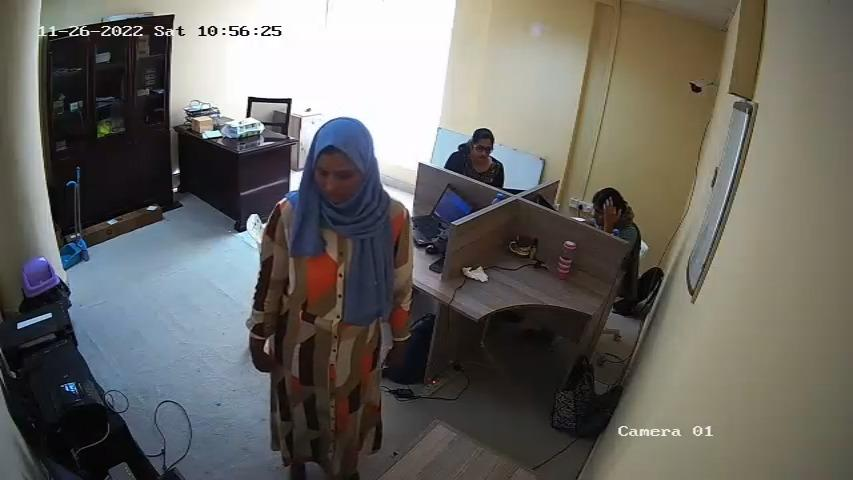no_apron: (278, 203, 378, 442)
